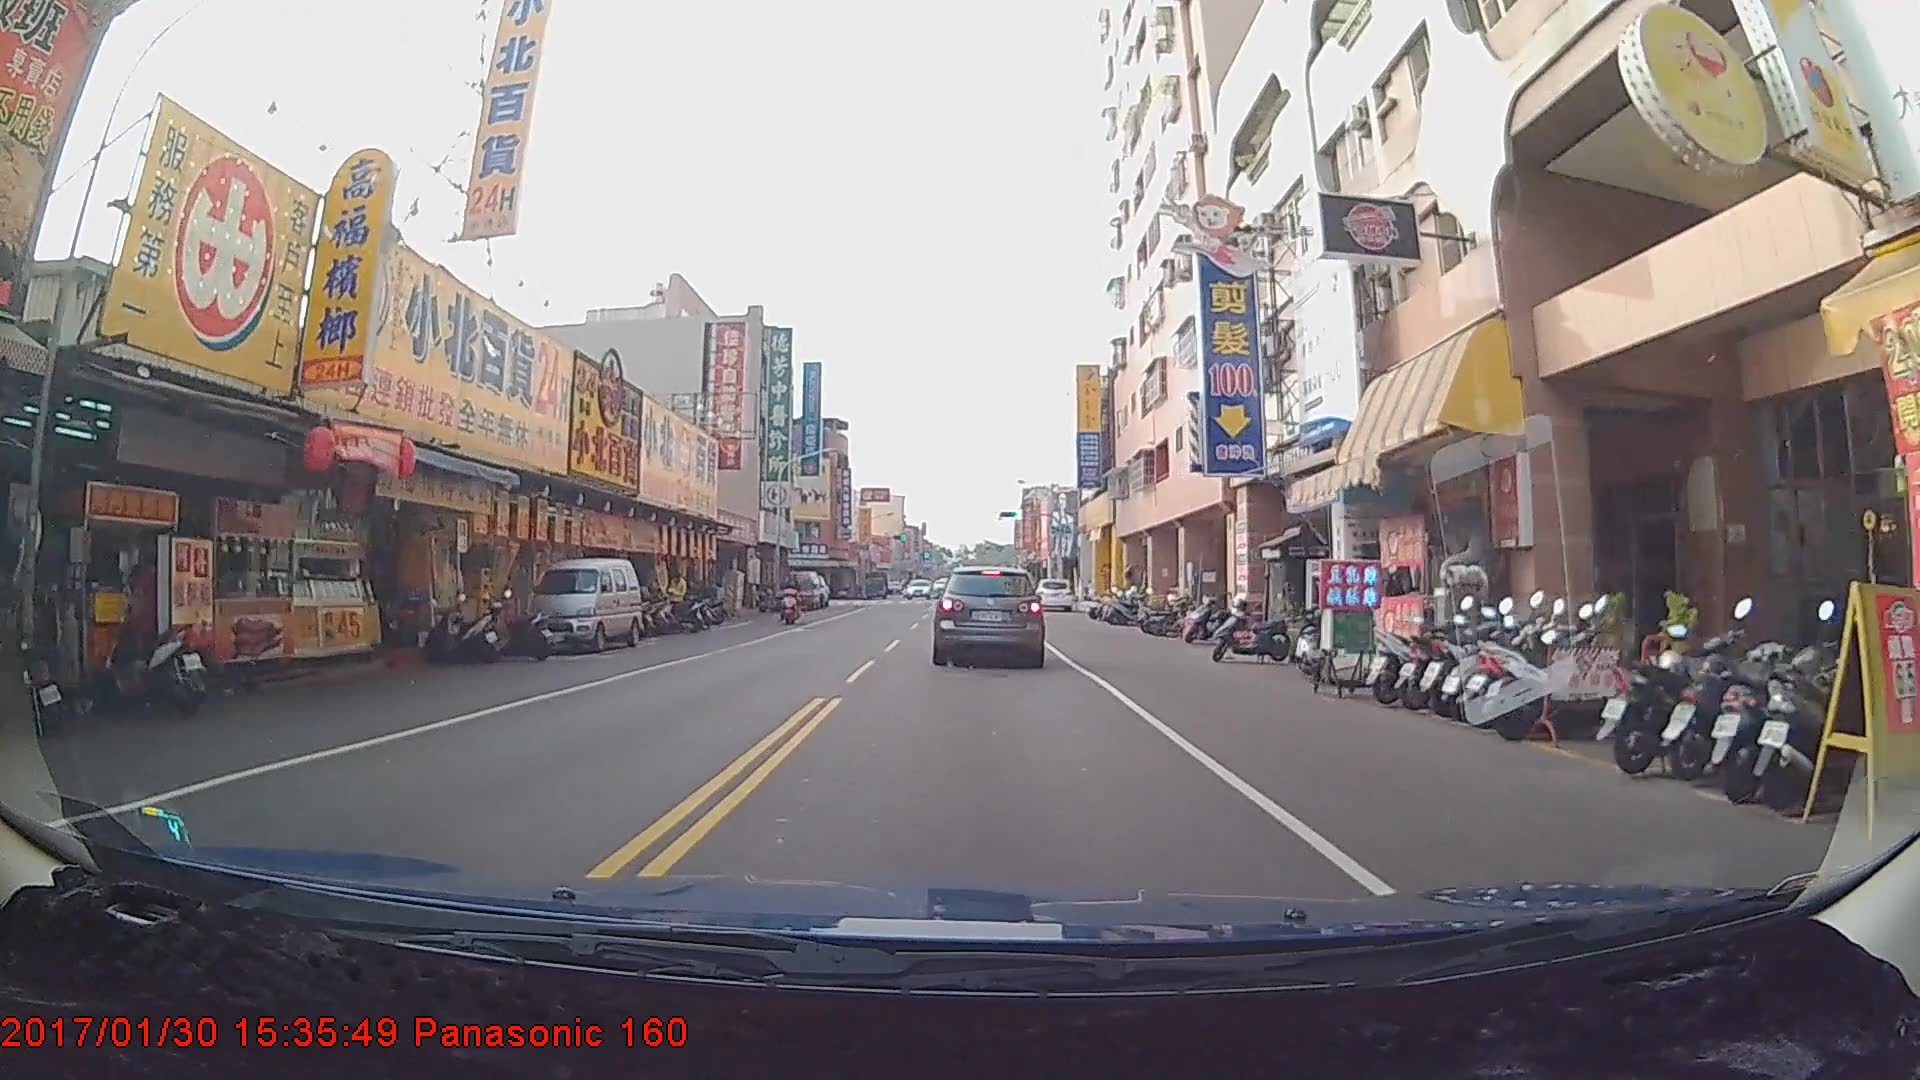pedestrian: (663, 571, 689, 628)
rider: (783, 571, 809, 628)
vehicle: (934, 561, 1045, 667), (520, 558, 640, 653), (783, 569, 821, 610), (1034, 578, 1073, 613), (905, 578, 930, 598)
